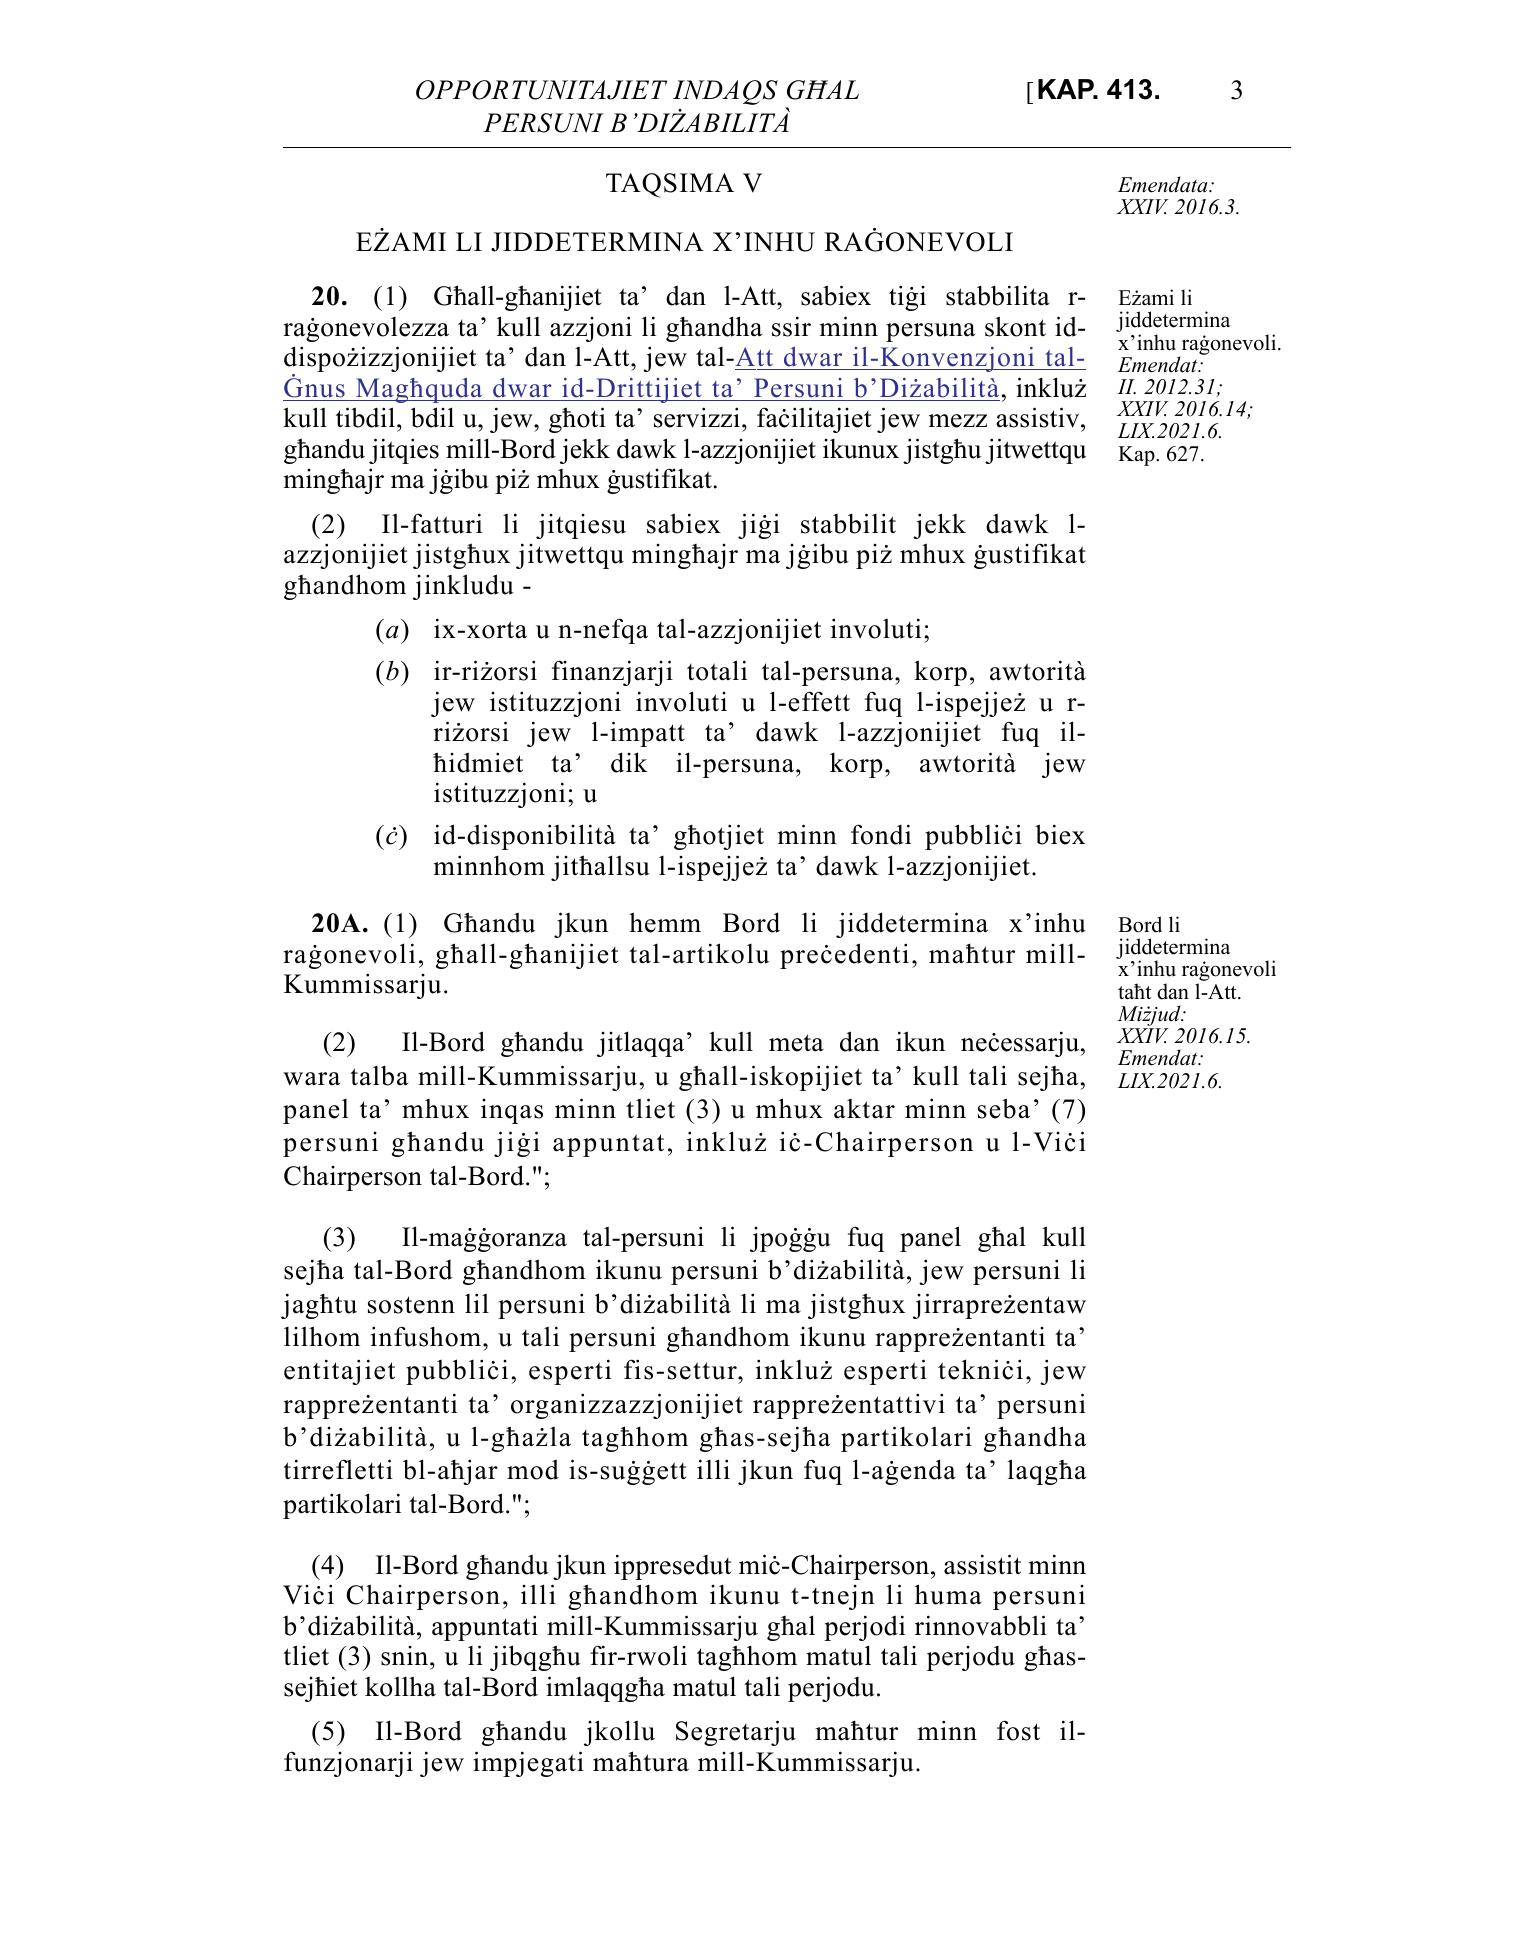text: (259, 162, 1096, 1792)
